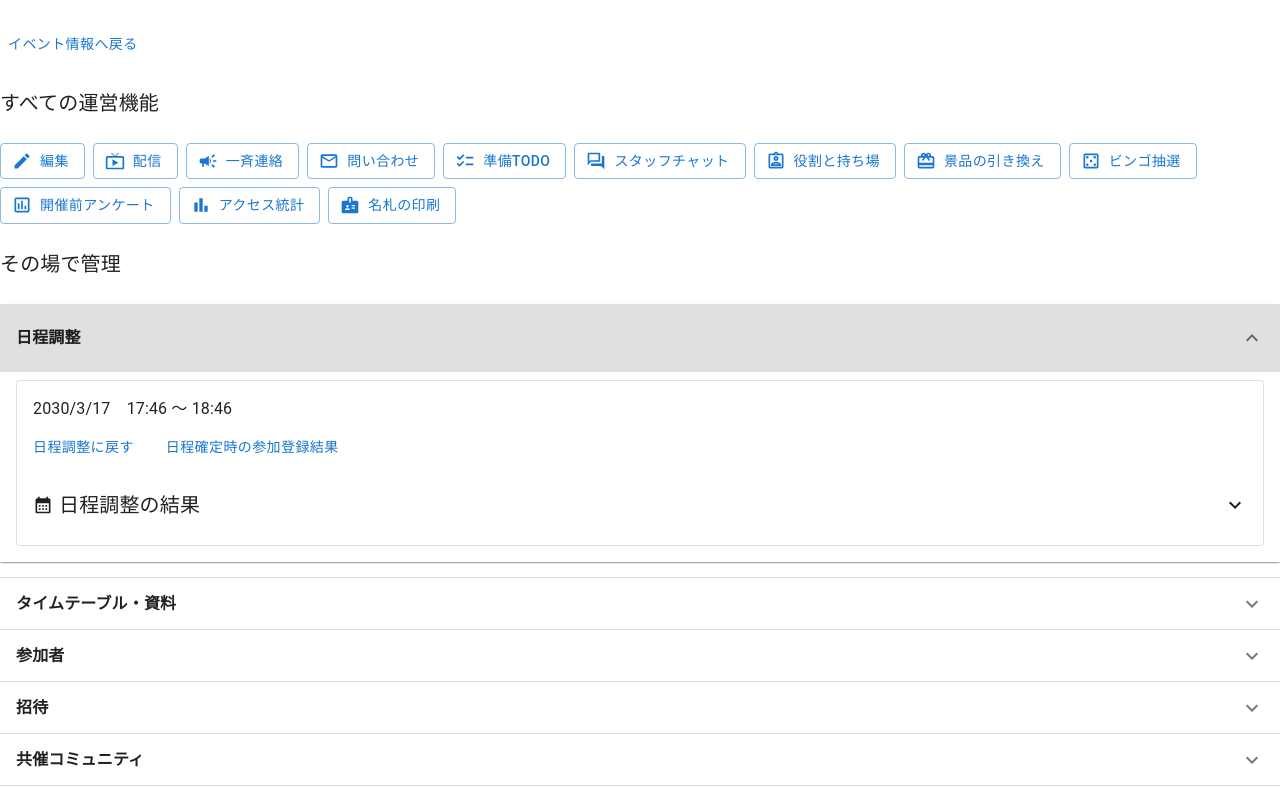
it: management reopens with explicit deadline consent, keeps own anonymous answers selected and re-finalizes into registration results
(page scrolled)
Click the button "日程調整に戻す" at (83,447), box [25,428,142,465]
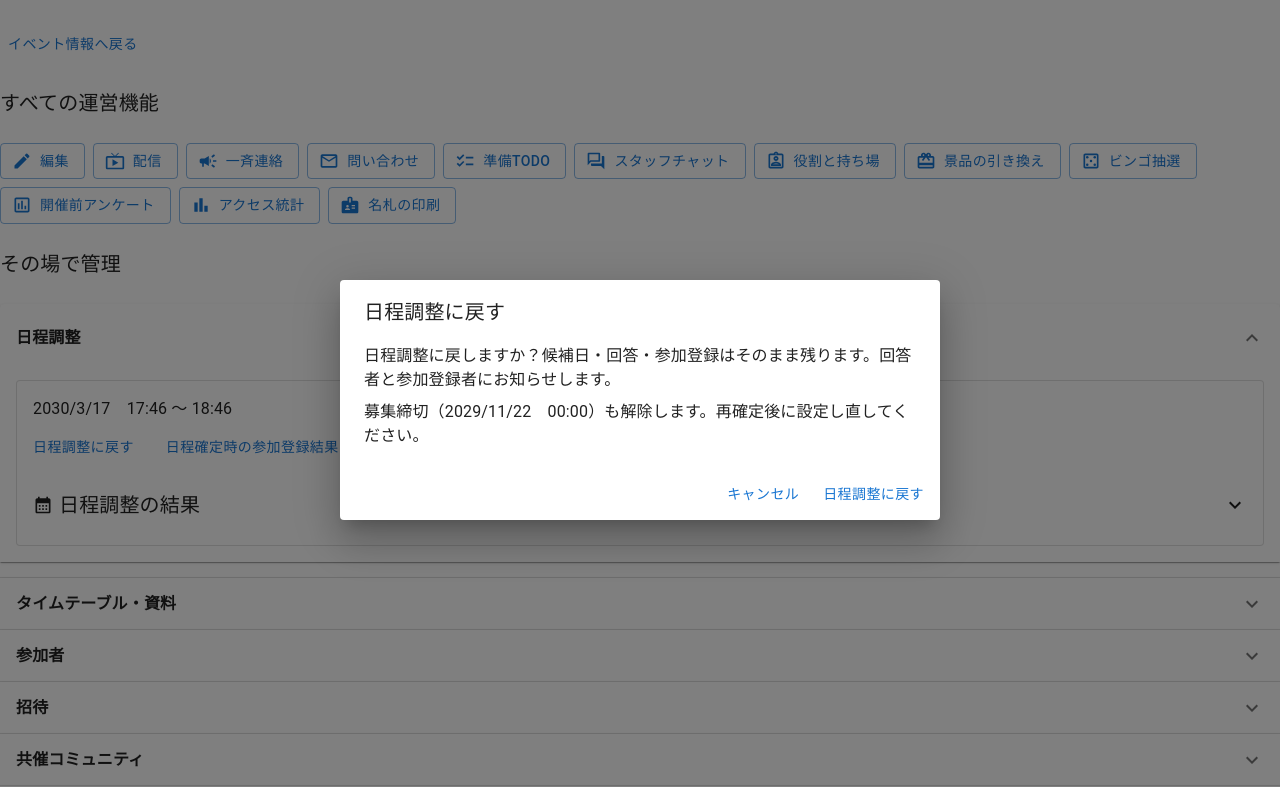
Now the text "募集締切（2029/11/22 00:00）も解除します。再確定後に設定し直してください。" is shown, box [364,400,916,448]
Click the button "キャンセル" at (763,494), box [719,476,807,512]
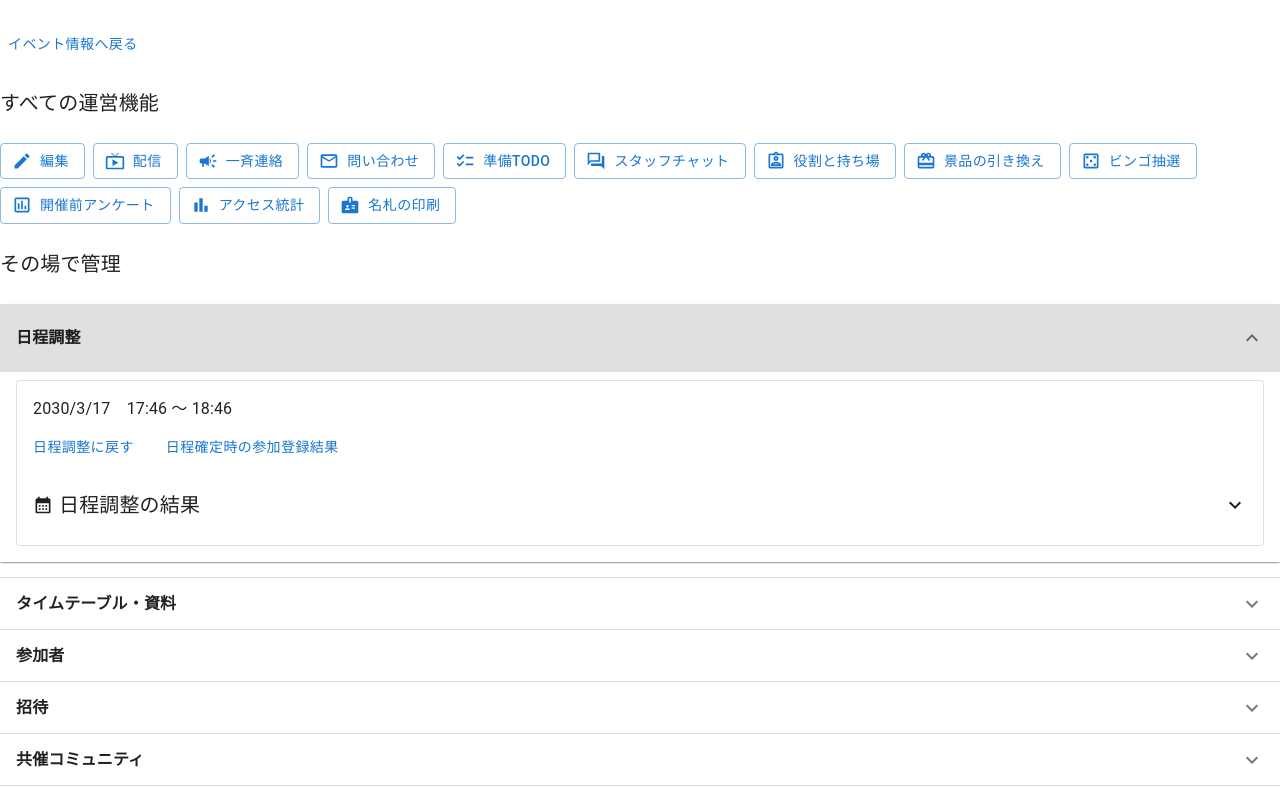
Now the dialog is gone
Click the button "日程調整に戻す" at (83,447), box [25,428,142,465]
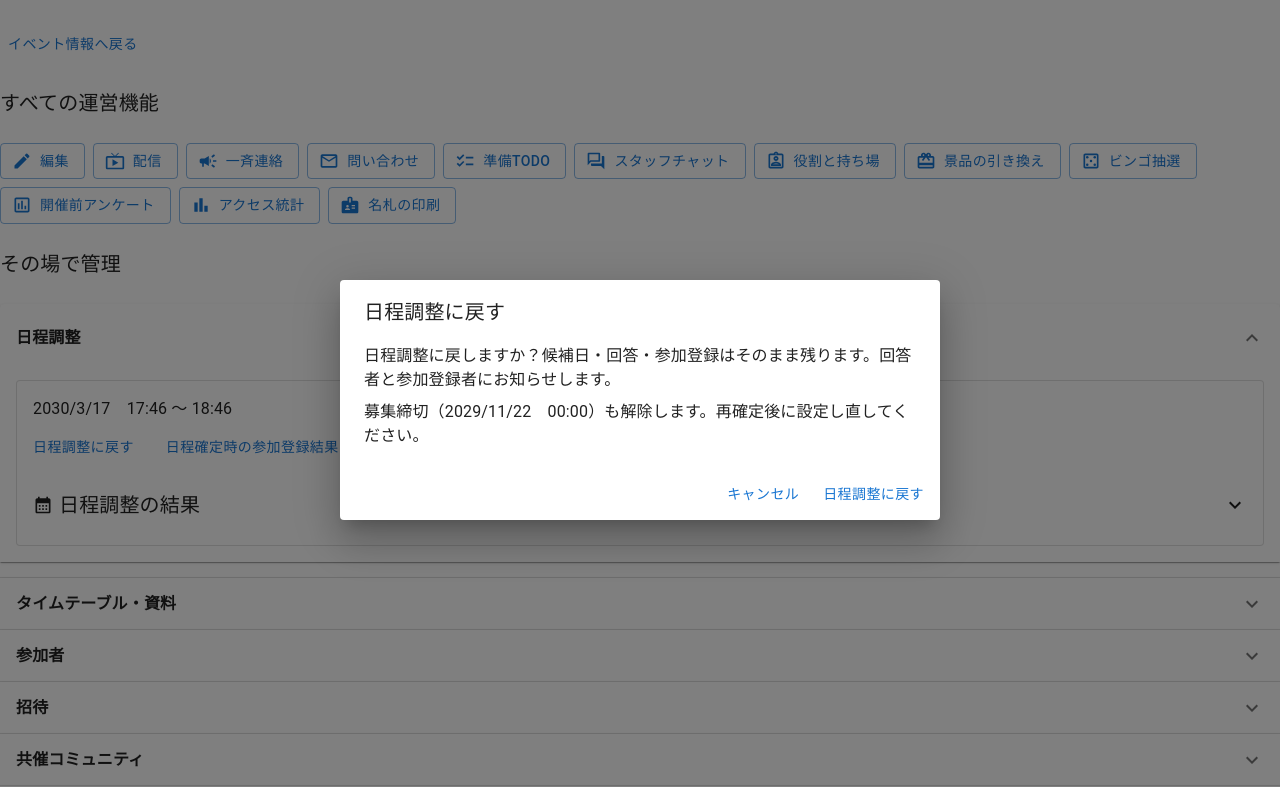
Click the button "日程調整に戻す" at (874,494), box [815,476,932,512]
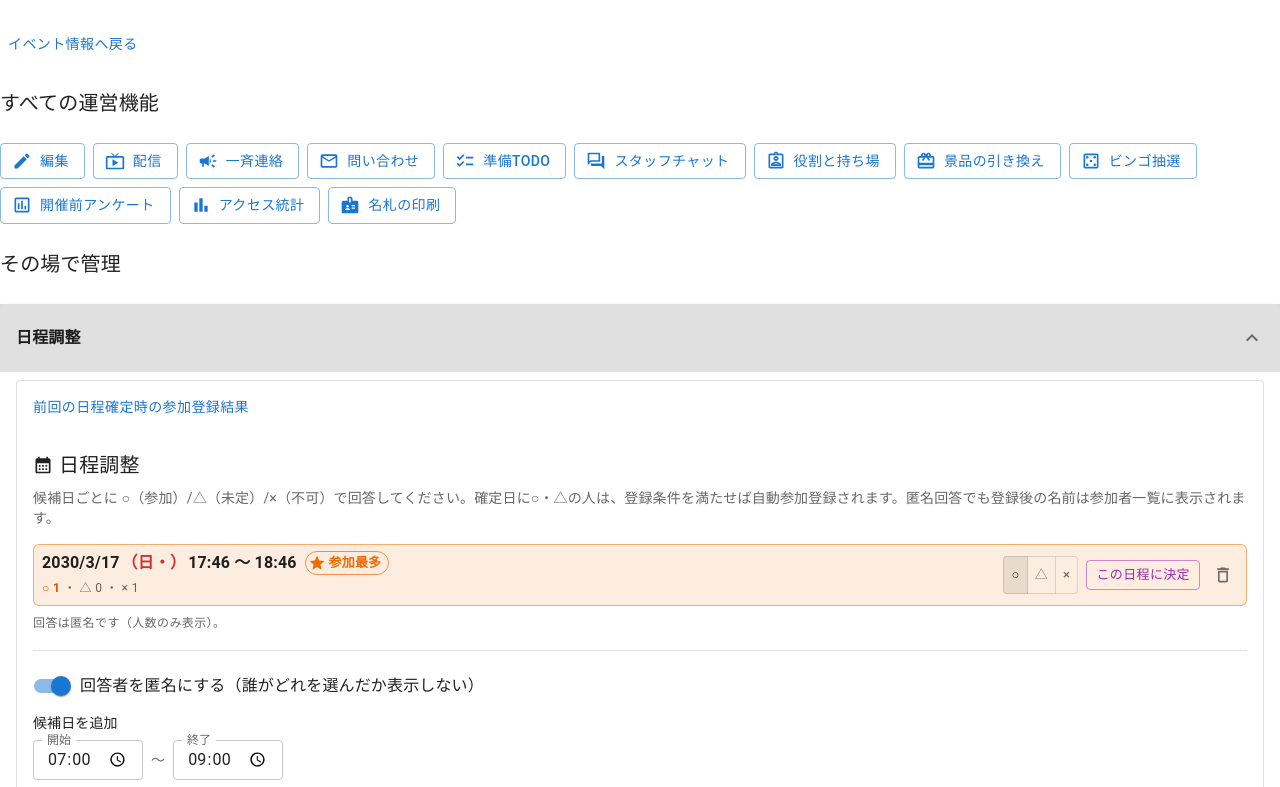
Now the dialog is gone
Now the text "匿名回答でも登録後の名前" is shown, box [33,490,1246,526]
Now the button "前回の日程確定時の参加登録結果" is shown, box [25,388,257,425]
Click the button "この日程に決定" at (1143,575), box [1086,560,1200,590]
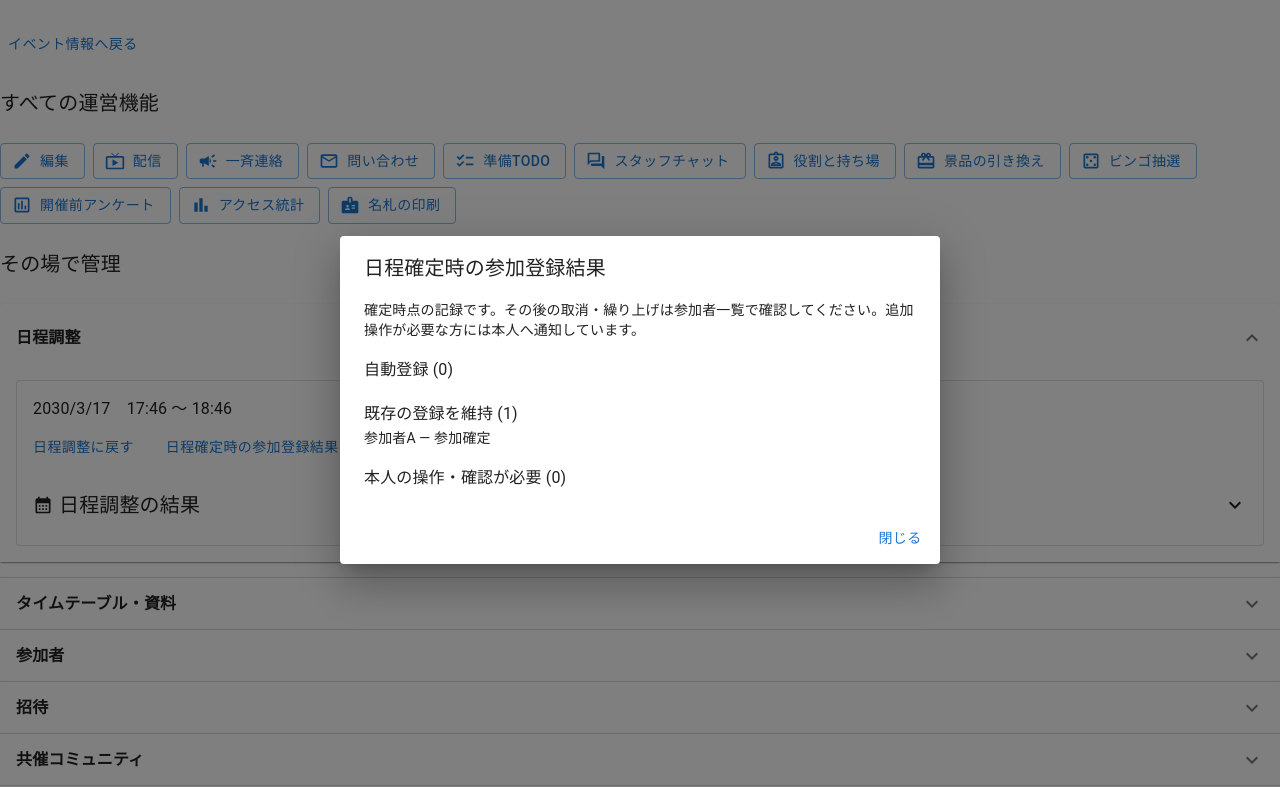
Now the dialog is shown, box [340,236,940,564]
Now the text "参加者A — 参加確定" is shown, box [364,430,491,446]
